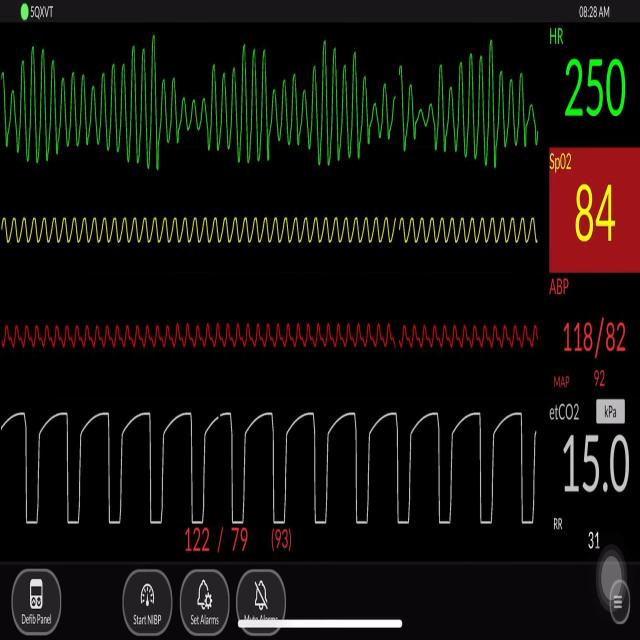danger: (0, 29, 542, 191)
